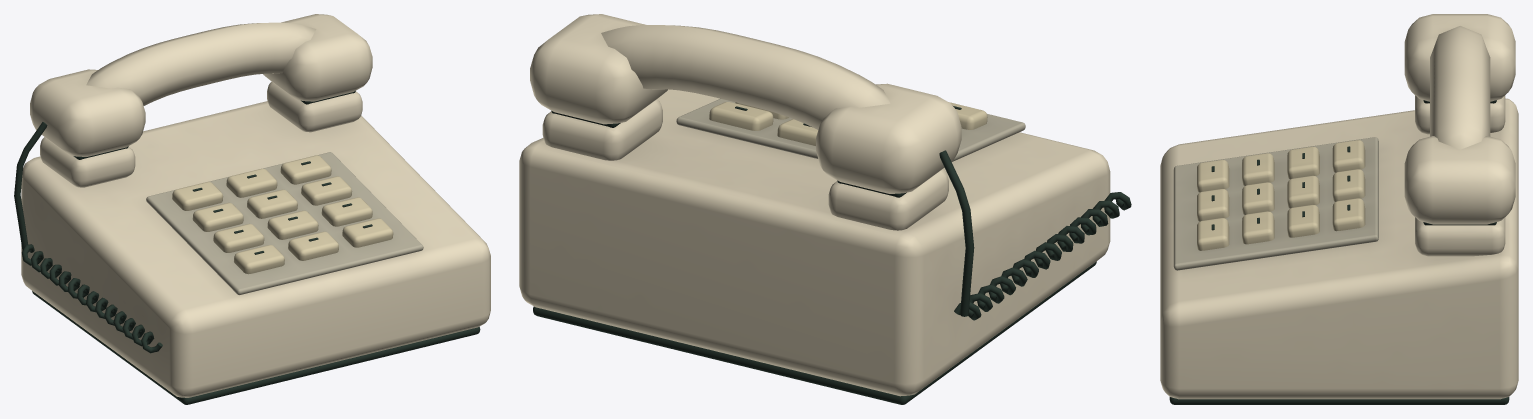
The model's file is phone-02.gltf.
3 renders of one model, left to right at view 1: azimuth 30°, elevation 25°; view 2: azimuth 150°, elevation 25°; view 3: azimuth 270°, elevation 25°, orthographic. The views are drawn at different scales.
Parts seen in each view (by area): view 1: phone-02; view 2: phone-02; view 3: phone-02.
Boxes of the visible parts, bbox=[...] form: phone-02: bbox=[14, 14, 490, 404]; phone-02: bbox=[519, 14, 1131, 404]; phone-02: bbox=[1160, 14, 1518, 404].
Bounding box in the file's own units: 0.4627 × 0.309 × 0.38.
Materials: 4 (4 with a texture image).
